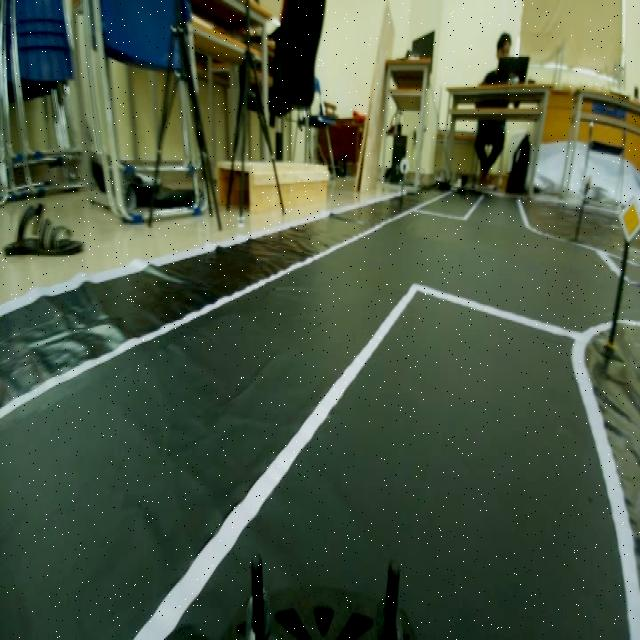priority: (614, 184, 640, 248)
